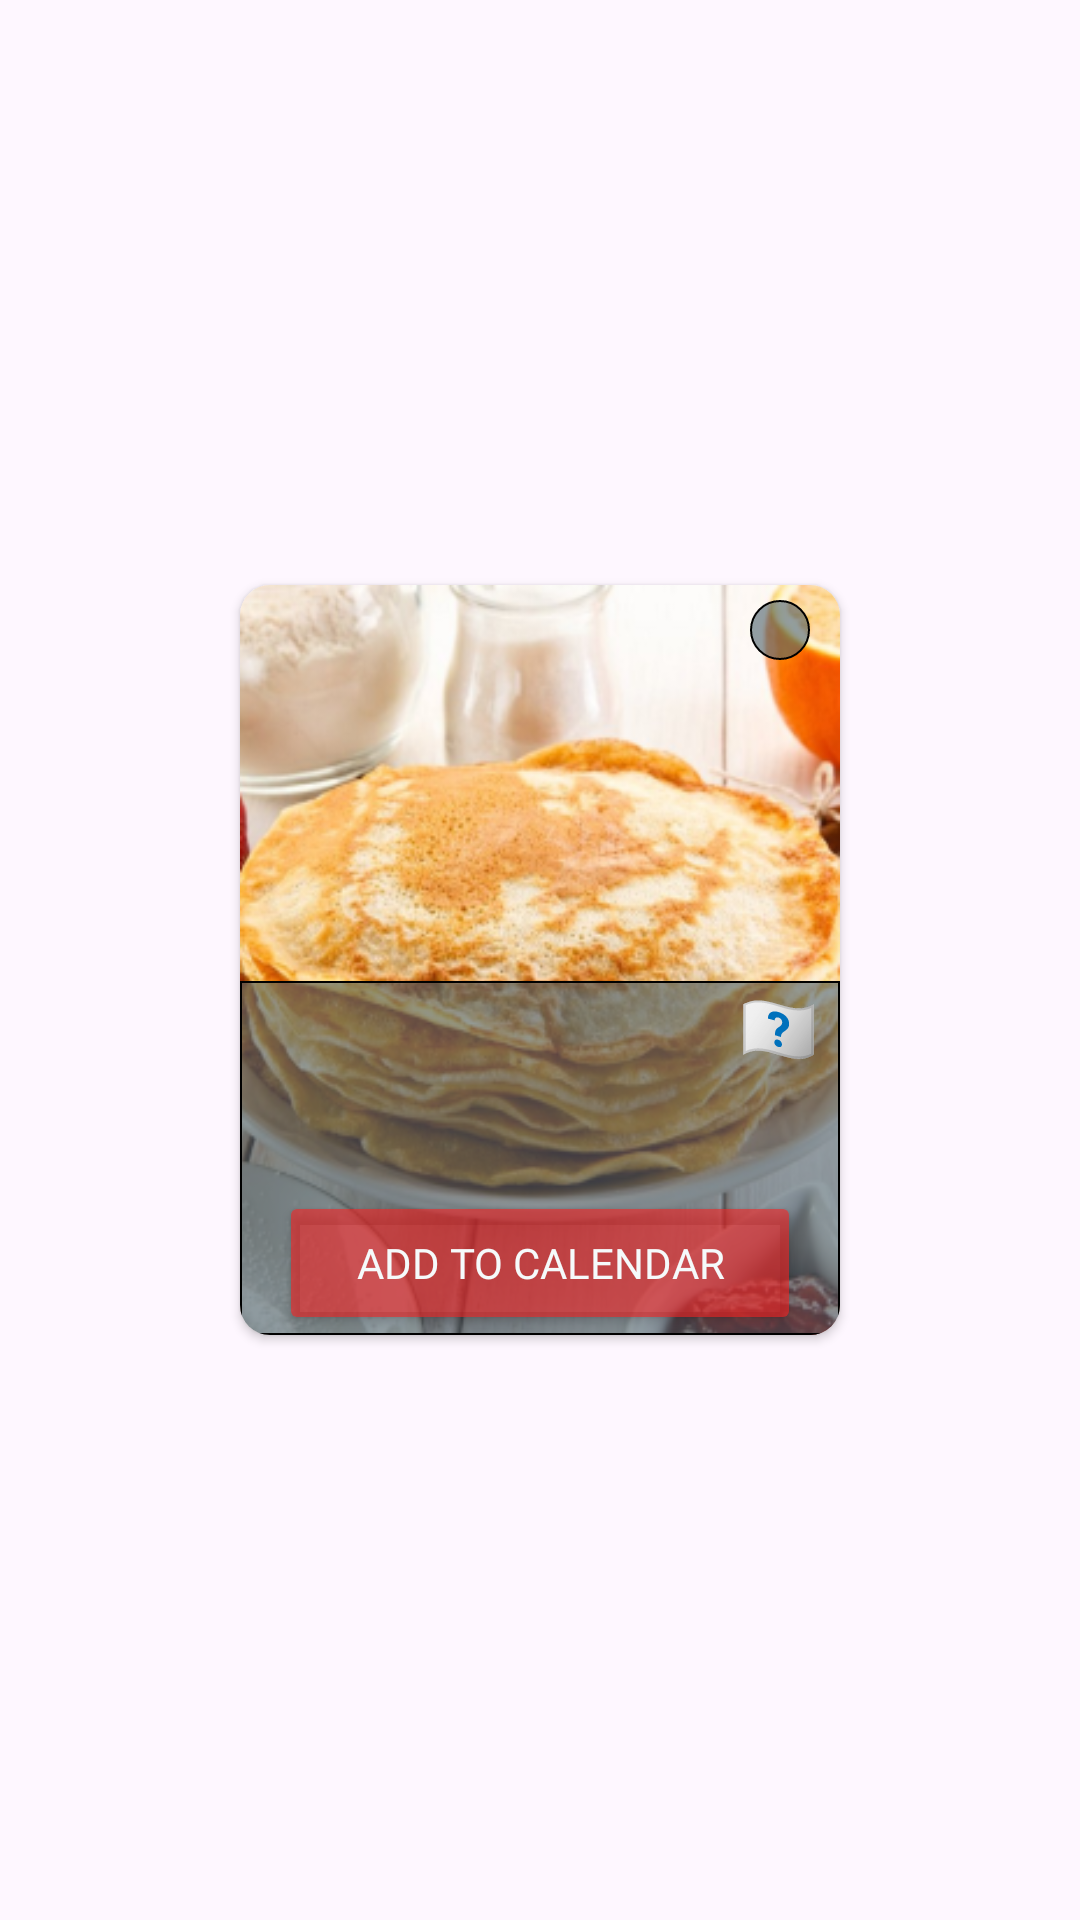

Screen size 1080w x 1920h. Icon name, then its center in pixels as point (x, y):
unknown flag: point (778, 1029)
